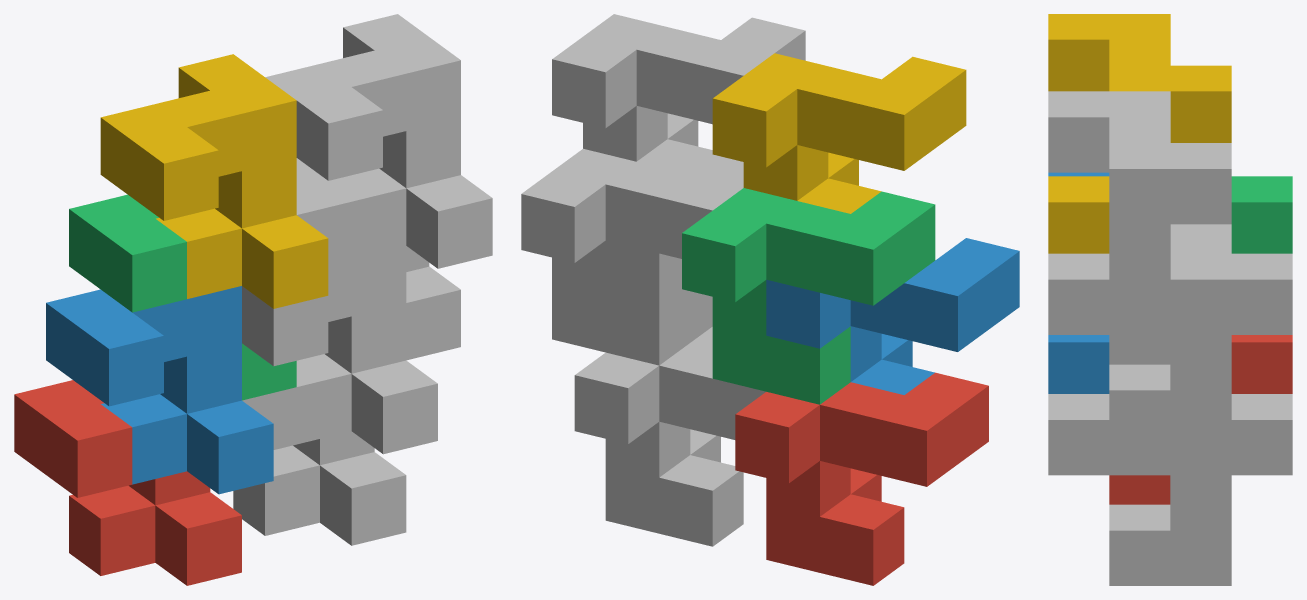
File: tiling.obj
3 renders of one model, left to right at view 1: azimuth 30°, elevation 25°; view 2: azimuth 150°, elevation 25°; view 3: azimuth 270°, elevation 25°, orthographic. The views are drawn at different scales.
Parts seen in each view (by area): view 1: copy_1_domain_4, copy_1_domain_8, copy_1_domain_2, copy_1_domain_1, copy_1_domain_6, copy_1_domain_5, copy_1_domain_3, copy_1_domain_7; view 2: copy_1_domain_1, copy_1_domain_3, copy_1_domain_4, copy_1_domain_7, copy_1_domain_5, copy_1_domain_8, copy_1_domain_2, copy_1_domain_6; view 3: copy_1_domain_8, copy_1_domain_7, copy_1_domain_4, copy_1_domain_5, copy_1_domain_6, copy_1_domain_1, copy_1_domain_3, copy_1_domain_2.
Part boxes in pixels (box(x1,y1,x2,y2)): copy_1_domain_4: box(100, 54, 328, 308); copy_1_domain_8: box(265, 14, 492, 268); copy_1_domain_2: box(46, 286, 273, 494); copy_1_domain_1: box(14, 380, 241, 585); copy_1_domain_6: box(242, 246, 437, 454); copy_1_domain_5: box(233, 387, 406, 545); copy_1_domain_3: box(69, 194, 296, 400); copy_1_domain_7: box(296, 158, 460, 360); copy_1_domain_1: box(735, 372, 988, 585); copy_1_domain_3: box(682, 188, 935, 404); copy_1_domain_4: box(712, 53, 966, 213); copy_1_domain_7: box(521, 148, 743, 365); copy_1_domain_5: box(574, 343, 765, 546); copy_1_domain_8: box(552, 14, 805, 174); copy_1_domain_2: box(766, 238, 1019, 394); copy_1_domain_6: box(605, 240, 712, 348); copy_1_domain_8: box(1048, 91, 1231, 334); copy_1_domain_7: box(1109, 224, 1292, 445); copy_1_domain_4: box(1048, 14, 1231, 253); copy_1_domain_5: box(1109, 394, 1292, 585); copy_1_domain_6: box(1048, 335, 1170, 475); copy_1_domain_1: box(1109, 335, 1292, 504); copy_1_domain_3: box(1231, 176, 1292, 253); copy_1_domain_2: box(1048, 172, 1109, 393).
Bounding box in the file's own units: 7 × 8 × 4.
